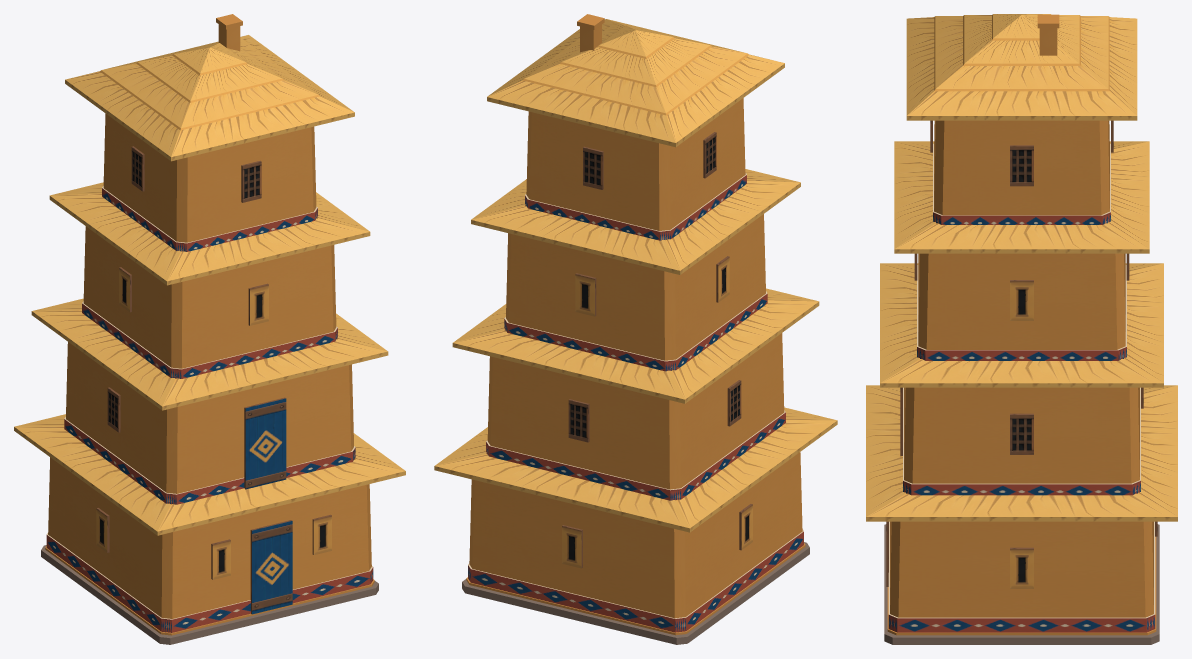
The model's file is SM_RC_MudHut_Square_4F_Setback.gltf.
The picture shows the model from 3 angles, left to right: view 1: azimuth 30°, elevation 25°; view 2: azimuth 150°, elevation 25°; view 3: azimuth 270°, elevation 25°; orthographic projection. The views are drawn at different scales.
Parts seen in each view (by area): view 1: SM_RC_WA_MudHut_Square_4F_Setback_RoofFixed; view 2: SM_RC_WA_MudHut_Square_4F_Setback_RoofFixed; view 3: SM_RC_WA_MudHut_Square_4F_Setback_RoofFixed.
Boxes of the visible parts, x1=… form: SM_RC_WA_MudHut_Square_4F_Setback_RoofFixed: x1=14, y1=14, x2=405, y2=644; SM_RC_WA_MudHut_Square_4F_Setback_RoofFixed: x1=434, y1=14, x2=837, y2=644; SM_RC_WA_MudHut_Square_4F_Setback_RoofFixed: x1=866, y1=14, x2=1177, y2=644.
Bounding box in the file's own units: 8.84 × 18.27 × 8.84.
1 material, 1 textured.
